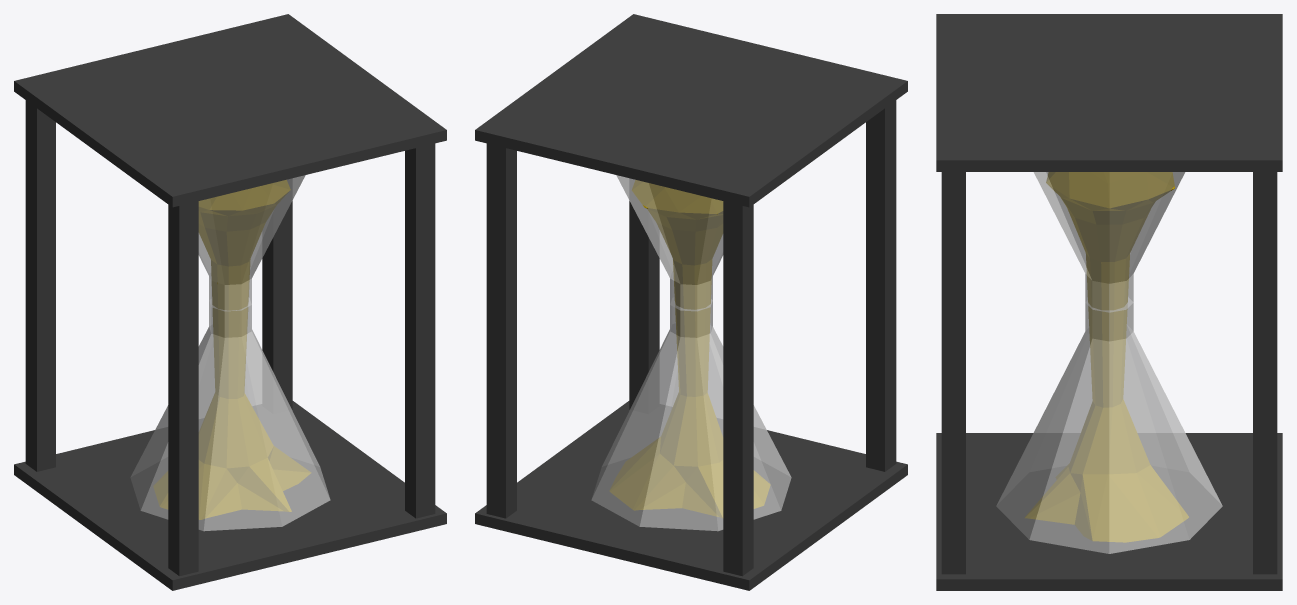
The model's file is hourglass.fbx.
3 renders of one model, left to right at view 1: azimuth 30°, elevation 25°; view 2: azimuth 150°, elevation 25°; view 3: azimuth 270°, elevation 25°, orthographic. The views are drawn at different scales.
Parts seen in each view (by area): view 1: Cylinder.002, Cylinder, Icosphere; view 2: Cylinder.002, Cylinder, Icosphere; view 3: Cylinder.002, Cylinder, Icosphere.
Boxes of the visible parts, left/top/right/bottom form: Cylinder.002: left=14, top=14, right=446, bottom=590; Cylinder: left=130, top=175, right=330, bottom=531; Icosphere: left=153, top=180, right=310, bottom=519; Cylinder.002: left=475, top=14, right=907, bottom=590; Cylinder: left=591, top=175, right=791, bottom=531; Icosphere: left=609, top=180, right=770, bottom=518; Cylinder.002: left=936, top=14, right=1282, bottom=590; Cylinder: left=996, top=172, right=1222, bottom=553; Icosphere: left=1025, top=172, right=1188, bottom=542.
Bounding box in the file's own units: 200 × 274 × 200.
